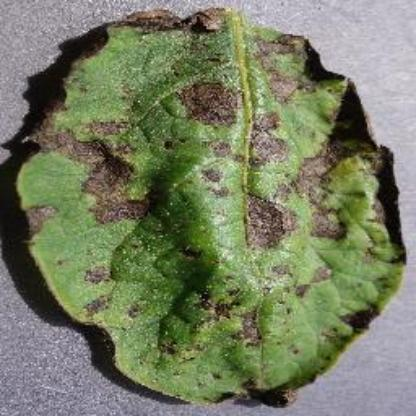Early-Blight: (9, 10, 411, 404)
